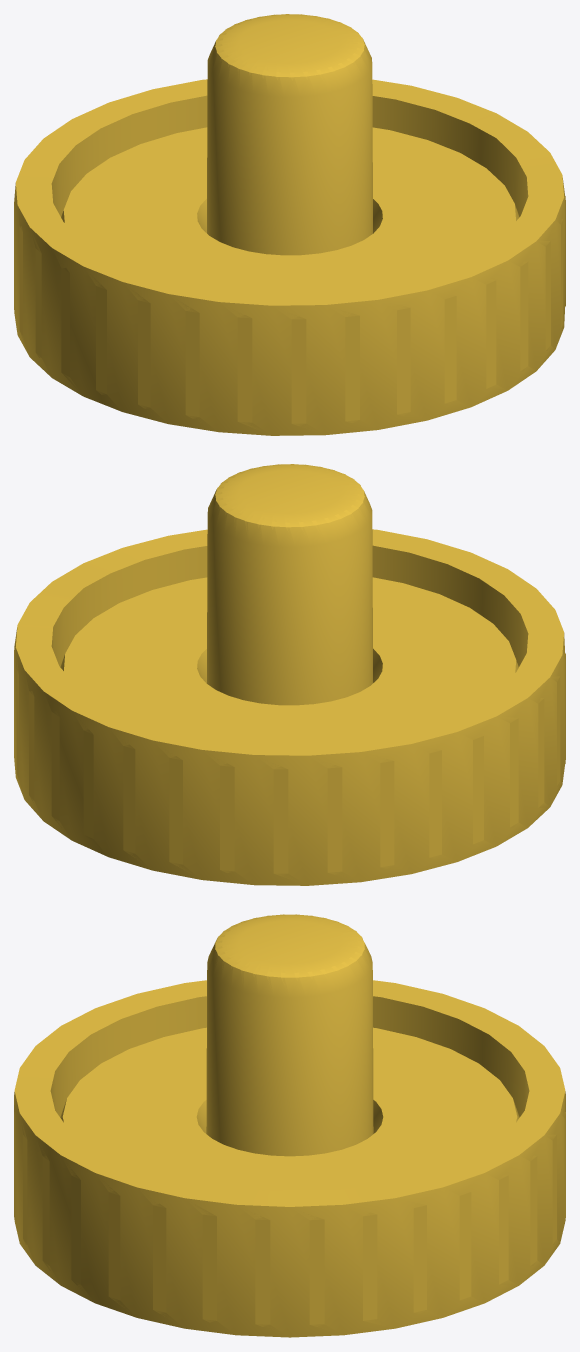
The model's file is Maret2.fbx.
The picture shows the model from 3 angles, top to bottom: view 1: azimuth 30°, elevation 25°; view 2: azimuth 150°, elevation 25°; view 3: azimuth 270°, elevation 25°; orthographic projection.
Visible parts, largest first — view 1: 円柱; view 2: 円柱; view 3: 円柱.
Boxes of the visible parts, bbox=[...] form: 円柱: bbox=[14, 14, 565, 435]; 円柱: bbox=[14, 464, 565, 885]; 円柱: bbox=[14, 914, 565, 1337].
Size of the model in its own units: 272 by 155 by 272.
